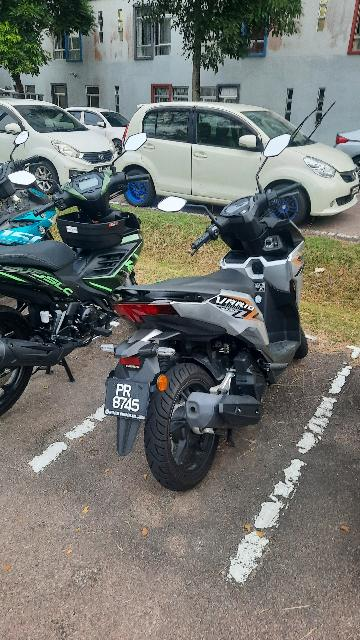License_Plate: (98, 379, 156, 425)
car: (118, 89, 360, 233), (1, 69, 121, 208)
motorcycle: (101, 133, 345, 494), (1, 126, 189, 414)
